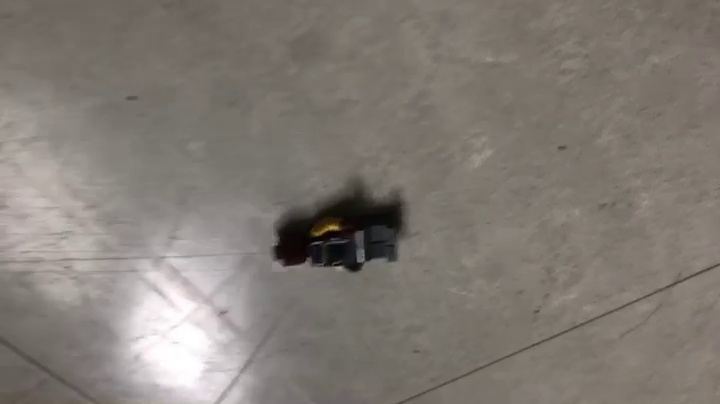people: (270, 189, 404, 274)
